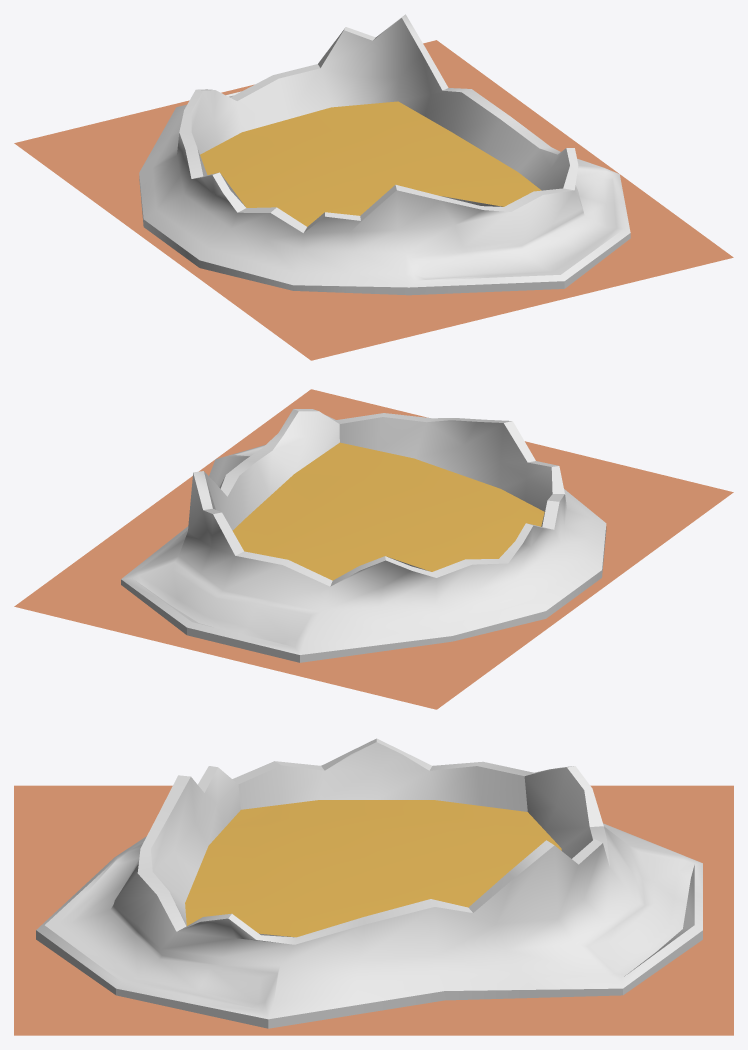
File: Cercado.fbx
The picture shows the model from 3 angles, top to bottom: view 1: azimuth 30°, elevation 25°; view 2: azimuth 150°, elevation 25°; view 3: azimuth 270°, elevation 25°; orthographic projection. The views are drawn at different scales.
Parts seen in each view (by area): view 1: Cercado1; view 2: Cercado1; view 3: Cercado1.
Boxes of the visible parts, bbox=[...] form: Cercado1: bbox=[14, 14, 733, 360]; Cercado1: bbox=[14, 389, 733, 709]; Cercado1: bbox=[14, 738, 733, 1035].
Bounding box in the file's own units: 297 × 71.52 × 362.
